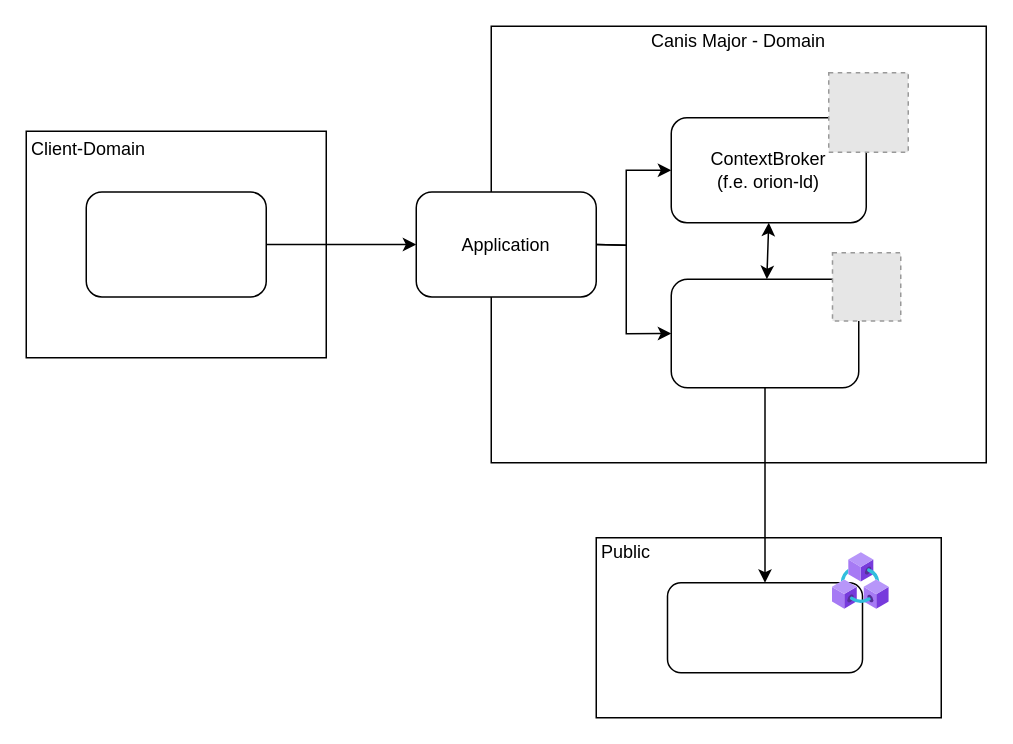
This 1013x744 diagram has some shape labels left out. Grey dashed boxes stand in for pictures. The centre of each missing label's shape, as x and y in pixels:
CanisMajor: the point at 764,333
Client: the point at 175,243
ETH-Compatible Node: the point at 764,627
